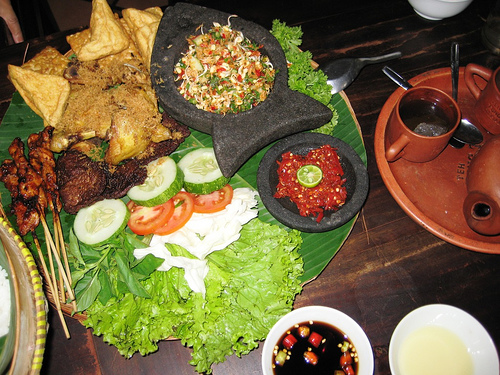cucumber: (127, 155, 185, 208), (74, 198, 130, 247), (176, 147, 230, 195)
